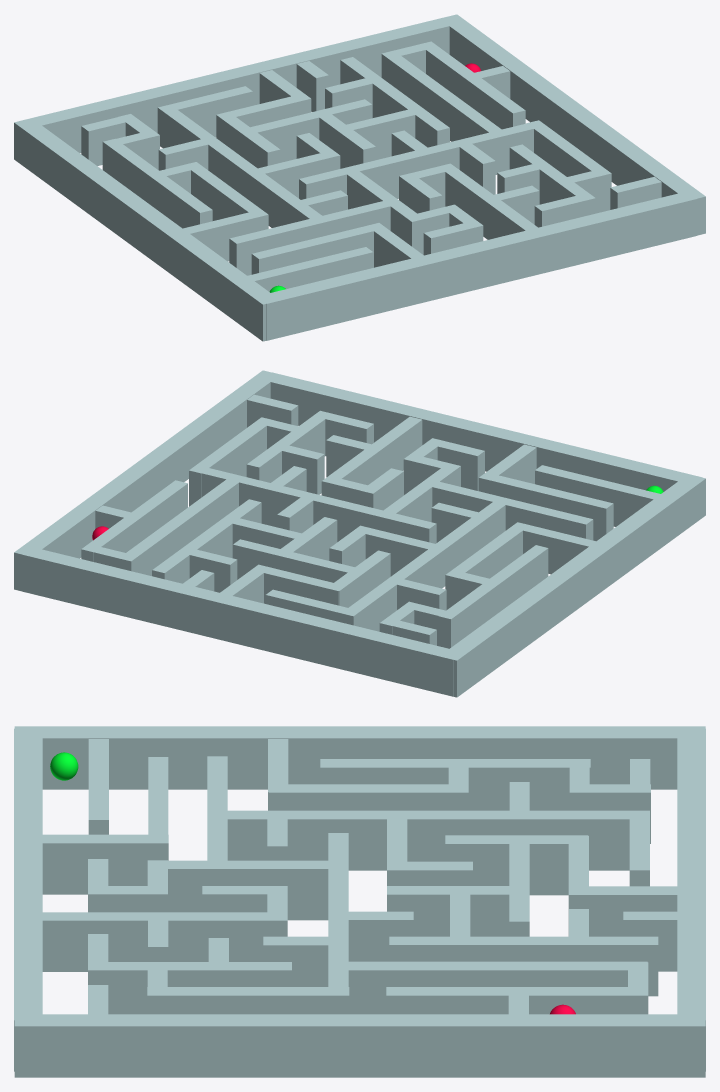
File: Laberinto2.fbx
3 views of the same model, one above another, from view 1: azimuth 30°, elevation 25°; view 2: azimuth 150°, elevation 25°; view 3: azimuth 270°, elevation 25° (orthographic). The views are drawn at different scales.
Parts seen in each view (by area): view 1: pasted__polySurface66, pasted__polySurface83, pasted__polySurface71, pasted__polySurface47, pasted__pCube9, pasted__pCube29, pasted__pCube4, pasted__pCube35, pasted__pCube30, pasted__pCube36, pasted__pCube40, pasted__pCube34 (+37 smaller); view 2: pasted__polySurface71, pasted__polySurface83, pasted__polySurface66, pasted__polySurface47, pasted__pCube29, pasted__pCube9, pasted__pCube30, pasted__pCube35, pasted__pCube4, pasted__pCube36, pasted__pCube5, pasted__pCube40 (+38 smaller); view 3: pasted__polySurface47, pasted__polySurface83, pasted__pCube29, pasted__pCube40, pasted__pCube35, pasted__pCube30, pasted__polySurface66, pasted__polySurface71, pasted__pCube34, pasted__pCube36, pasted__pCube41, pasted__pCube42 (+38 smaller).
Boxes of the visible parts, x1,y1,x2,y2 form: pasted__polySurface66: (257, 191, 696, 340); pasted__polySurface83: (14, 118, 279, 341); pasted__polySurface71: (21, 17, 452, 152); pasted__polySurface47: (440, 14, 705, 235); pasted__pCube9: (299, 120, 542, 199); pasted__pCube29: (157, 104, 325, 227); pasted__pCube4: (229, 198, 401, 275); pasted__pCube35: (381, 51, 501, 141); pasted__pCube30: (102, 138, 212, 228); pasted__pCube36: (420, 43, 525, 129); pasted__pCube40: (445, 169, 537, 239); pasted__pCube34: (340, 57, 449, 147); pasted__polySurface71: (23, 548, 453, 696); pasted__polySurface83: (440, 475, 705, 697); pasted__polySurface66: (262, 372, 702, 491); pasted__polySurface47: (14, 370, 279, 591); pasted__pCube29: (341, 498, 505, 631); pasted__pCube9: (190, 465, 436, 543); pasted__pCube30: (438, 545, 548, 648); pasted__pCube35: (119, 479, 238, 575); pasted__pCube4: (420, 479, 593, 540); pasted__pCube36: (81, 480, 187, 561); pasted__pCube5: (480, 472, 613, 541); pasted__pCube40: (329, 416, 422, 485); pasted__polySurface47: (14, 1014, 705, 1077); pasted__polySurface83: (14, 726, 705, 789); pasted__pCube29: (212, 810, 649, 870); pasted__pCube40: (42, 912, 267, 971); pasted__pCube35: (347, 961, 647, 1014); pasted__pCube30: (320, 759, 590, 810); pasted__polySurface66: (14, 728, 42, 1071); pasted__polySurface71: (677, 728, 705, 1071); pasted__pCube34: (389, 936, 658, 996); pasted__pCube36: (386, 987, 648, 1014); pasted__pCube41: (168, 860, 328, 920); pasted__pCube42: (42, 834, 168, 894).
Bounding box in the file's own units: 25.42 × 2.06 × 24.77.
